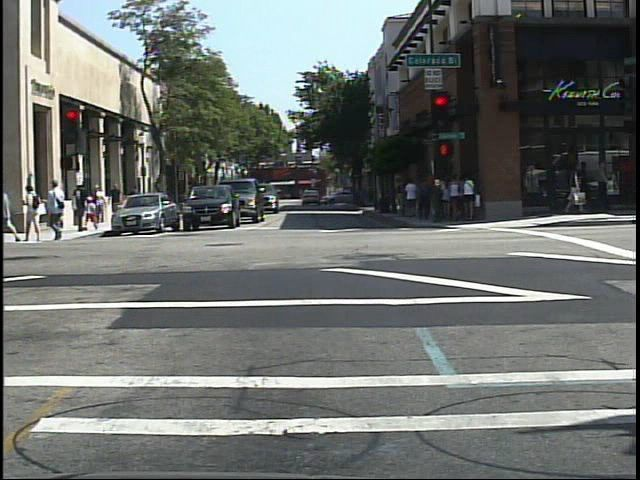person: (47, 175, 70, 244), (5, 175, 27, 247), (22, 183, 46, 244)
